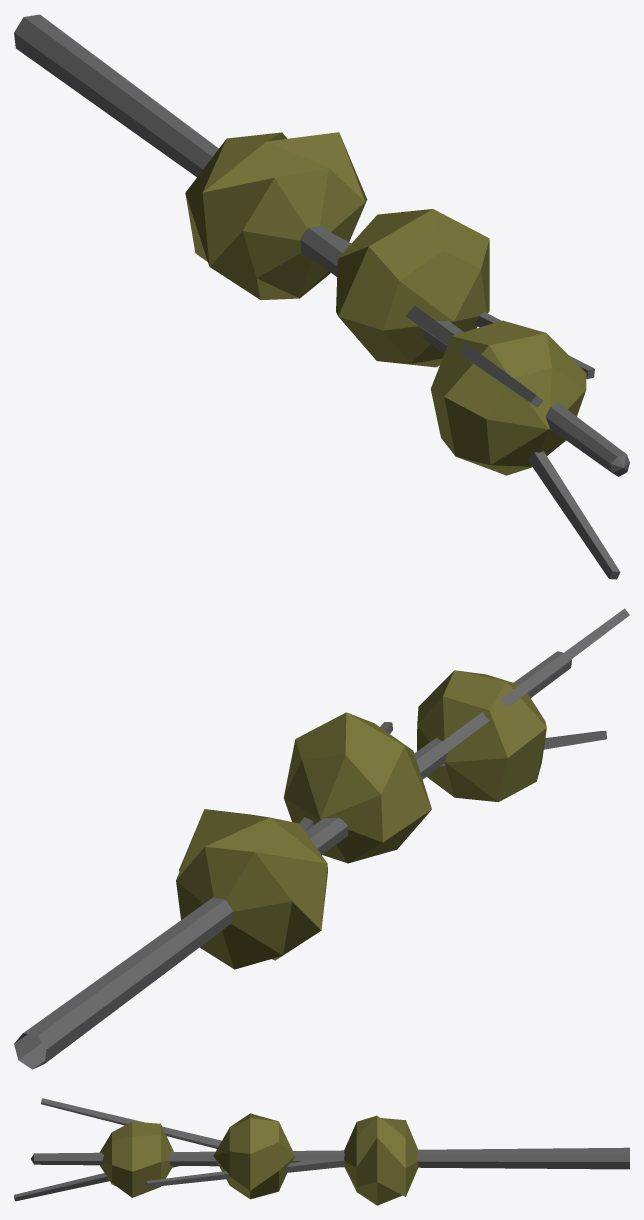
File: dying_1.glb
3 views of the same model, one above another, from view 1: azimuth 30°, elevation 25°; view 2: azimuth 150°, elevation 25°; view 3: azimuth 270°, elevation 25° (orthographic). The views are drawn at different scales.
Visible parts, largest first — view 1: tree_06_dying_1; view 2: tree_06_dying_1; view 3: tree_06_dying_1.
Boxes of the visible parts, x1,y1,x2,y2 form: tree_06_dying_1: (14,14,629,579); tree_06_dying_1: (14,608,629,1069); tree_06_dying_1: (14,1098,629,1205).
Size of the model in its own units: 8.48 by 9.08 by 53.21.
